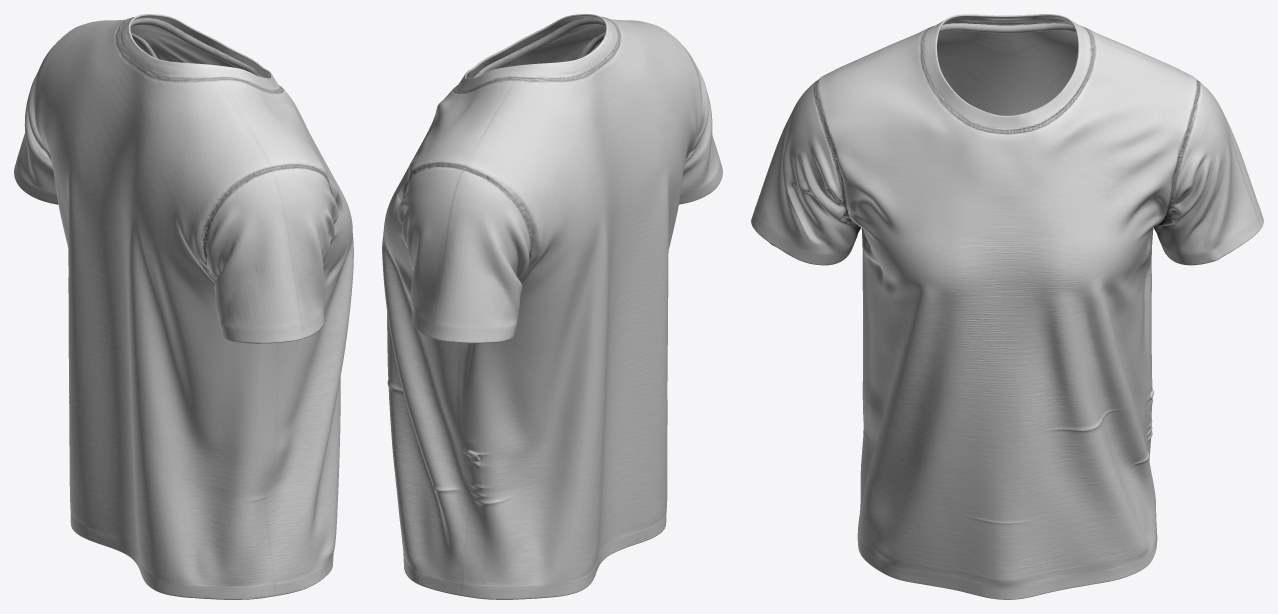
3 views of the same model, side by side, from view 1: azimuth 30°, elevation 25°; view 2: azimuth 150°, elevation 25°; view 3: azimuth 270°, elevation 25° (orthographic).
Visible parts, largest first — view 1: tripo_node_5a683399-5595-4c0f-8c52-b7cc3313ade6; view 2: tripo_node_5a683399-5595-4c0f-8c52-b7cc3313ade6; view 3: tripo_node_5a683399-5595-4c0f-8c52-b7cc3313ade6.
Part boxes in pixels (x1=…): tripo_node_5a683399-5595-4c0f-8c52-b7cc3313ade6: x1=14, y1=14, x2=353, y2=599; tripo_node_5a683399-5595-4c0f-8c52-b7cc3313ade6: x1=382, y1=14, x2=722, y2=599; tripo_node_5a683399-5595-4c0f-8c52-b7cc3313ade6: x1=751, y1=14, x2=1263, y2=599.
Bounding box in the file's own units: 0.3382 × 0.75 × 0.6875.
Materials: 1 (1 with a texture image).
